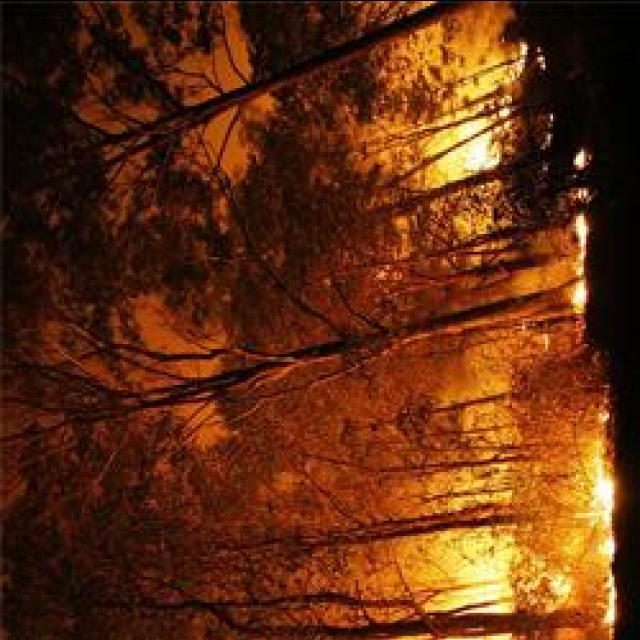fire: (588, 472, 618, 509), (461, 144, 499, 168), (454, 562, 504, 580), (566, 281, 592, 305), (572, 214, 592, 244), (604, 536, 616, 552)
